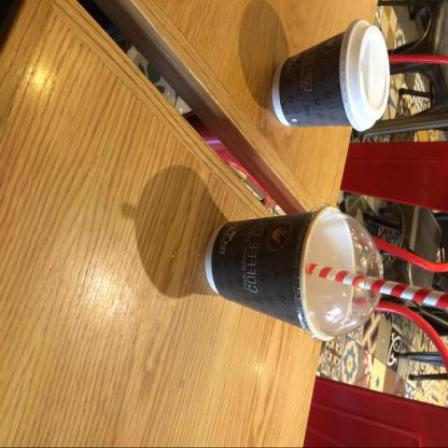Cup: (206, 208, 356, 343), (273, 32, 353, 128)
Lid: (295, 204, 385, 344), (341, 20, 391, 133)
Straw: (307, 263, 448, 311)
